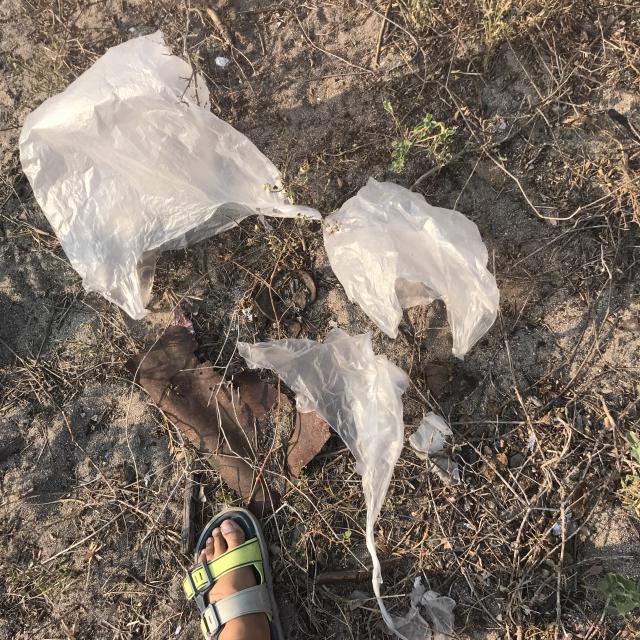Single-layer Plastic: (19, 31, 321, 319), (236, 329, 419, 638), (322, 178, 500, 359)
